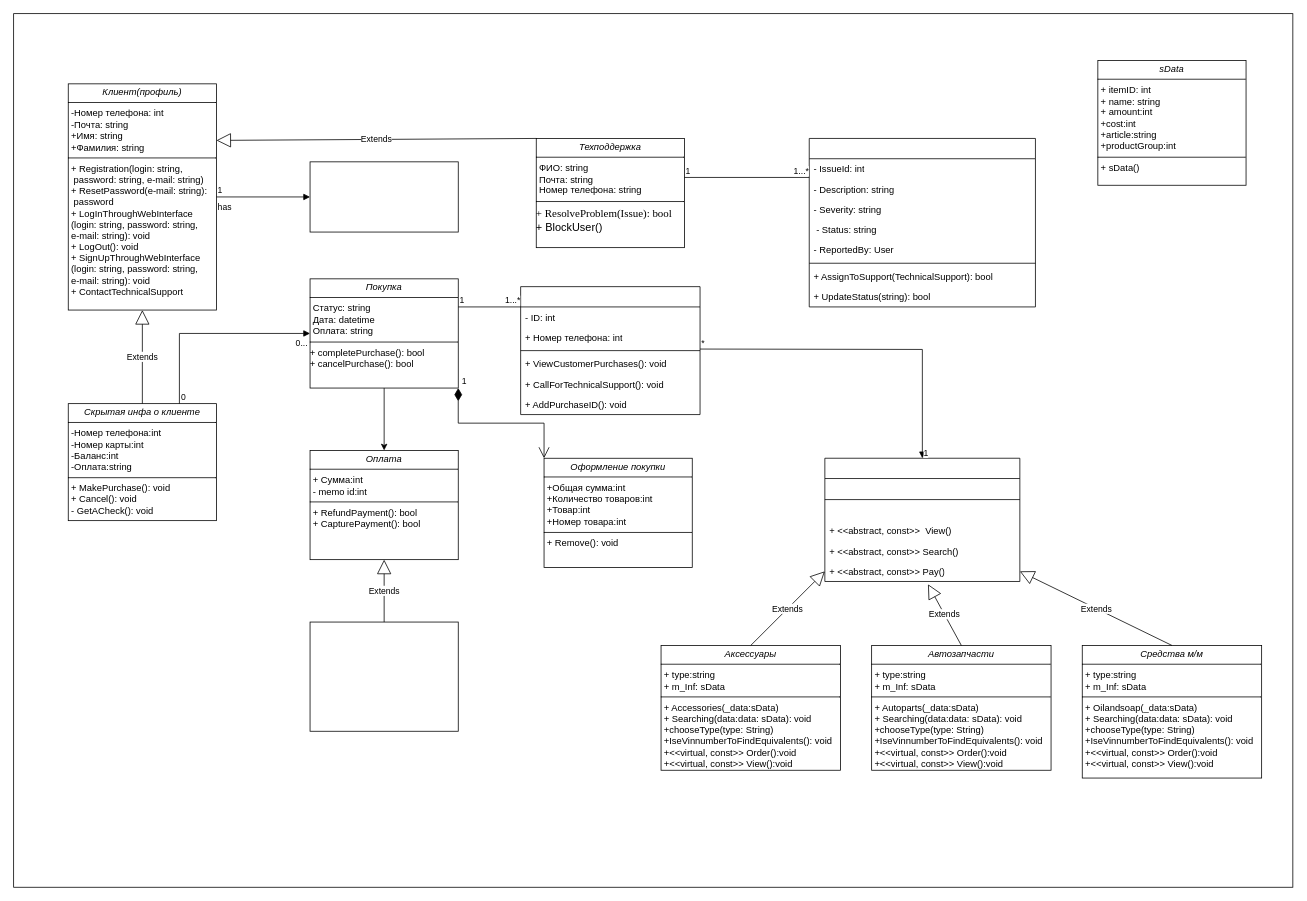
Image size: 1307x901. Some labels were removed from this diagram. The box of each missing label's shape, as (x1, y1, x2, y2) in pixels:
Интерфейс: (824, 457, 1020, 581)
клиент(акк) +ФИО: string -email; string + ChangeDetails(): void: (309, 161, 458, 232)
Оплата картой - Номер: int - Type: string - ExpDate: string + Confirm(): void: (309, 621, 458, 731)
Проблема/жалоба: (808, 138, 1035, 307)
Продавец: (520, 286, 700, 415)
